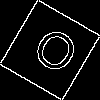O: (24, 25, 82, 84)
